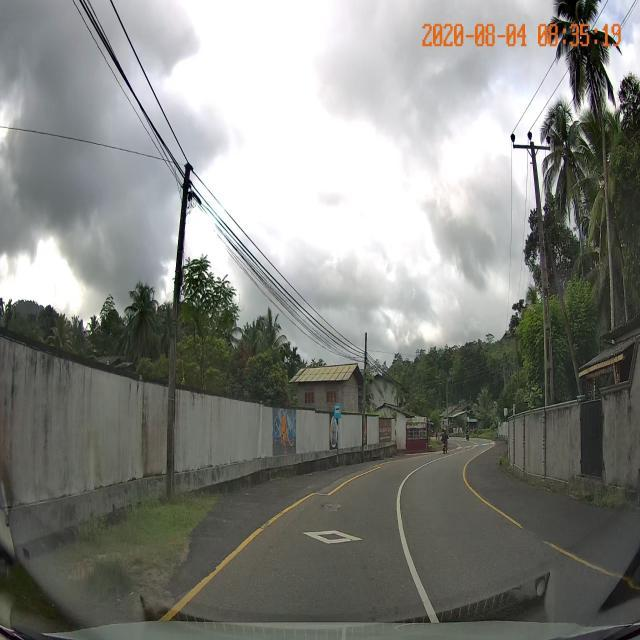diamond: (241, 511, 413, 557)
